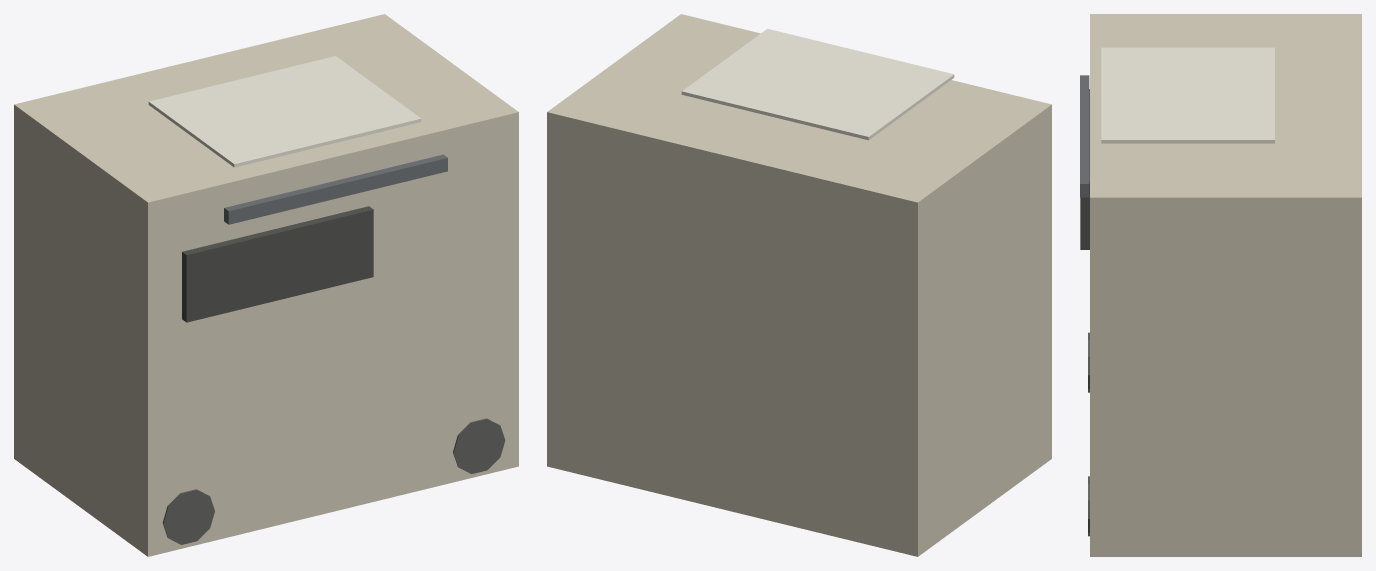
The model's file is line_printer_03.glb.
3 renders of one model, left to right at view 1: azimuth 30°, elevation 25°; view 2: azimuth 150°, elevation 25°; view 3: azimuth 270°, elevation 25°, orthographic.
Visible parts, largest first — view 1: body, paper, control, paper_slot, wheel0.45, wheel-0.45; view 2: body, paper; view 3: body, paper, paper_slot, control.
Part boxes in pixels (box(x1,y1,x2,y2)): body: box(14, 14, 518, 556); paper: box(148, 56, 421, 167); control: box(182, 206, 373, 322); paper_slot: box(224, 154, 447, 224); wheel0.45: box(453, 418, 505, 474); wheel-0.45: box(162, 489, 214, 544); body: box(547, 14, 1051, 556); paper: box(681, 28, 954, 140); body: box(1090, 14, 1361, 556); paper: box(1101, 47, 1274, 143); paper_slot: box(1080, 75, 1089, 197); control: box(1080, 89, 1089, 249).
Bounding box in the file's own units: 1.15 × 1.09 × 0.7465.
